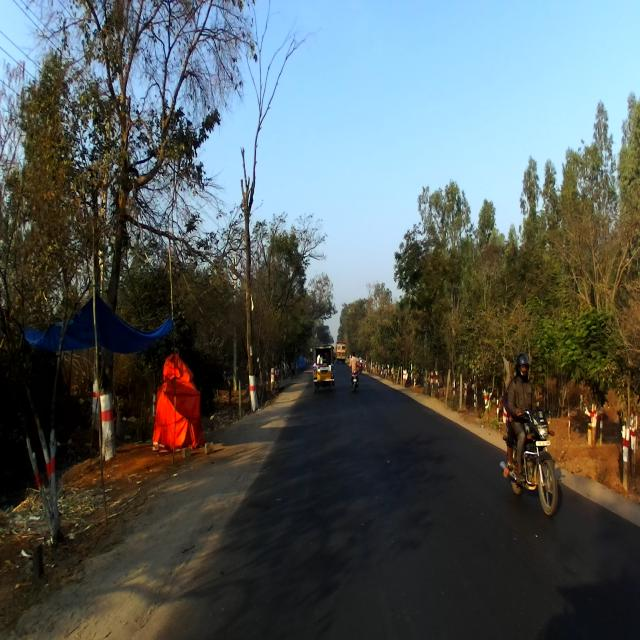car ahead at: (308, 334, 338, 398)
motorcycle ahead at: (496, 396, 561, 519)
tree ahead at: (236, 165, 272, 423)
